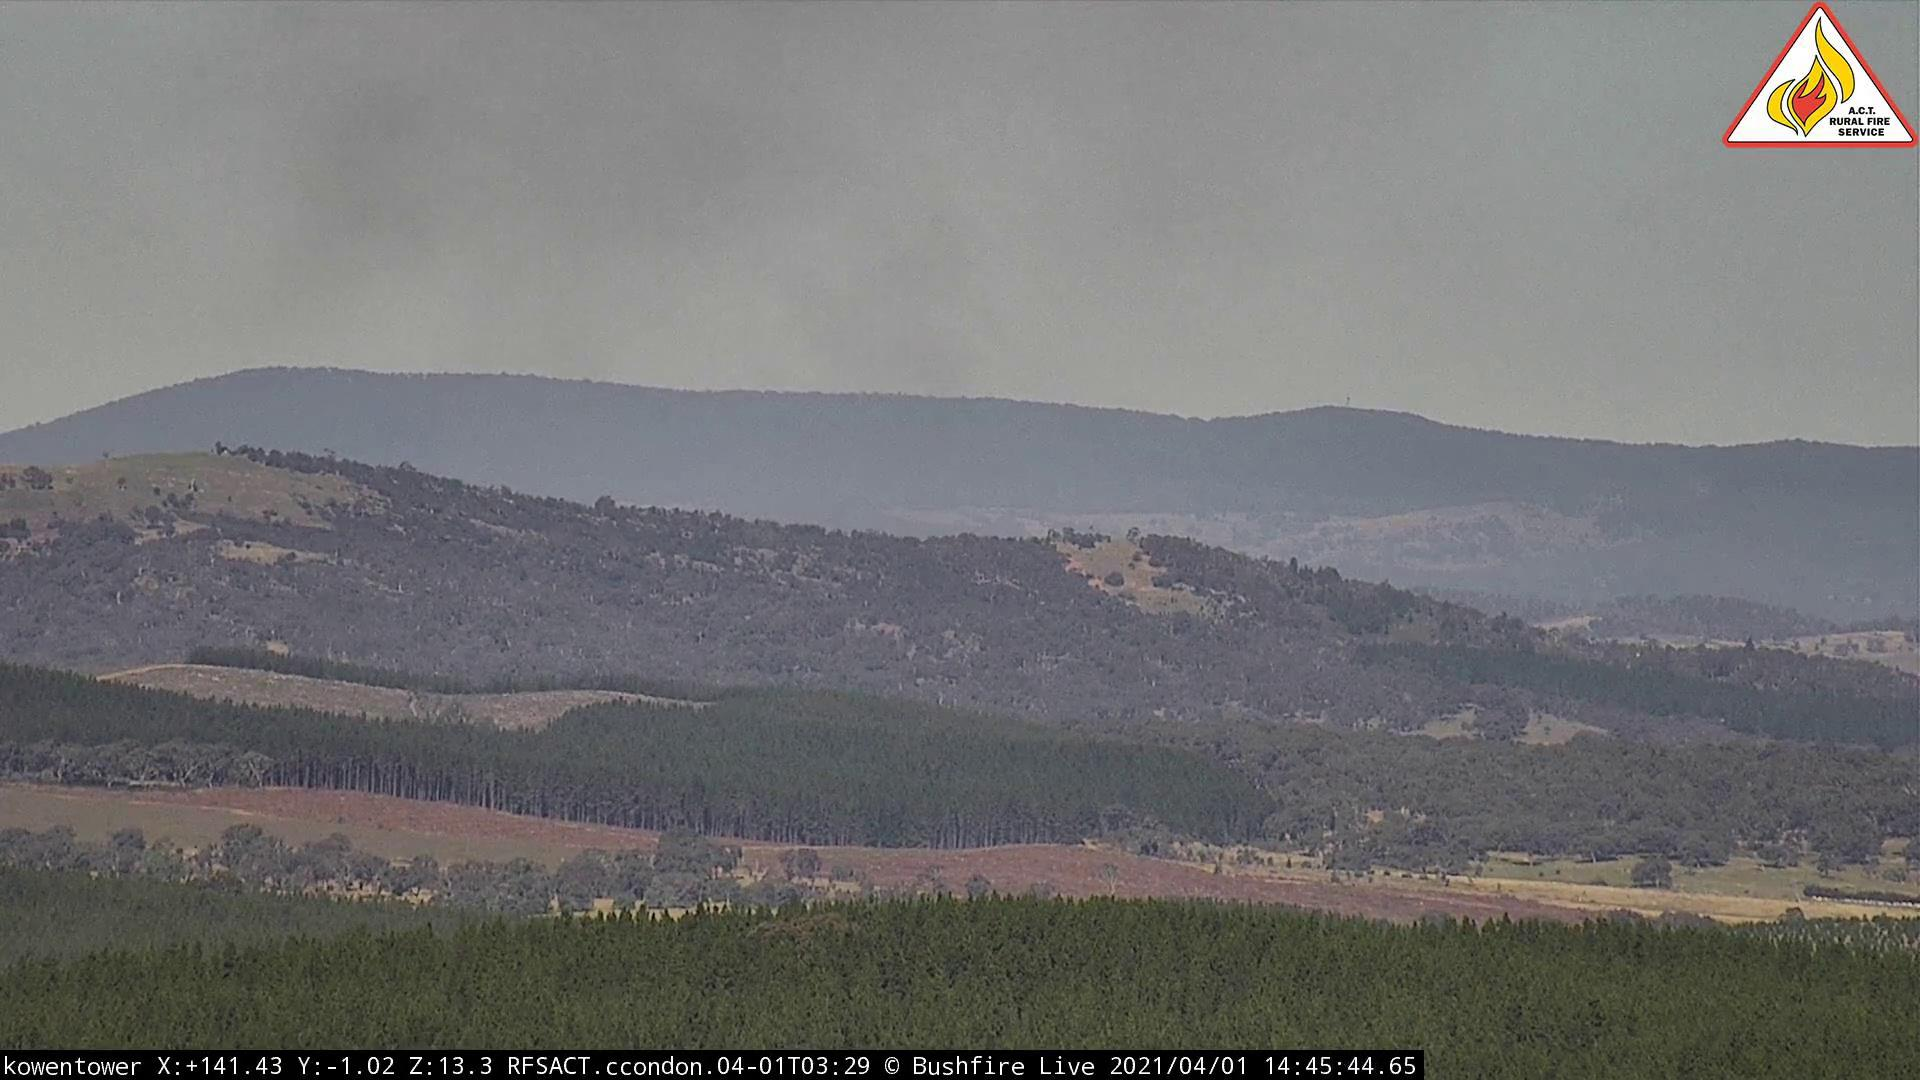Smoke: (208, 3, 1182, 476)
